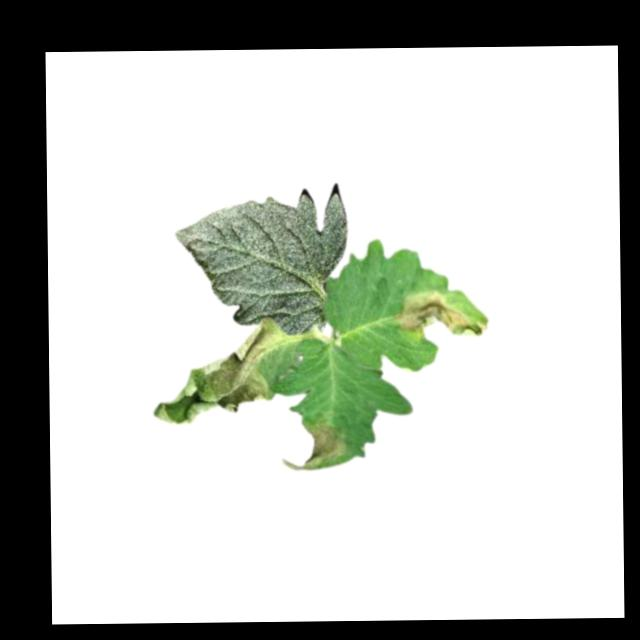Late_blight: (151, 314, 315, 426), (392, 285, 490, 337), (279, 423, 347, 471)
healthy: (172, 189, 349, 333)
